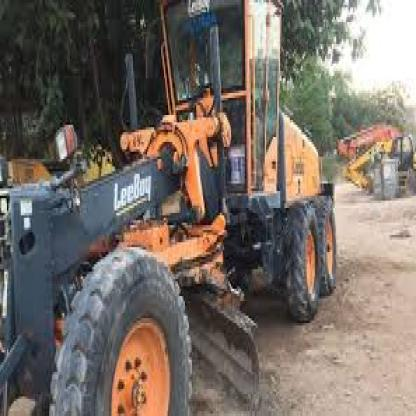bull_dozer/loader/grader: (3, 0, 349, 414)
